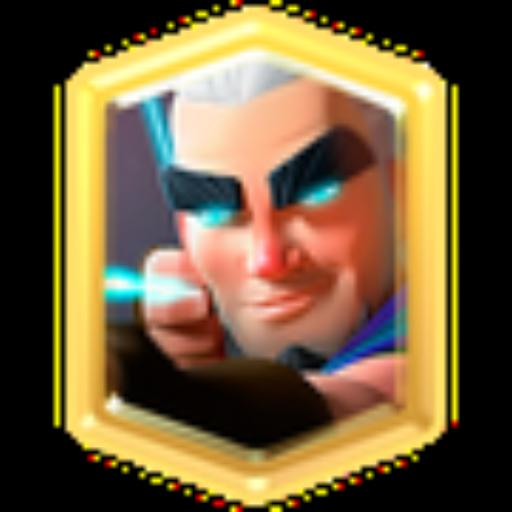magic-archer: (54, 0, 447, 494)
